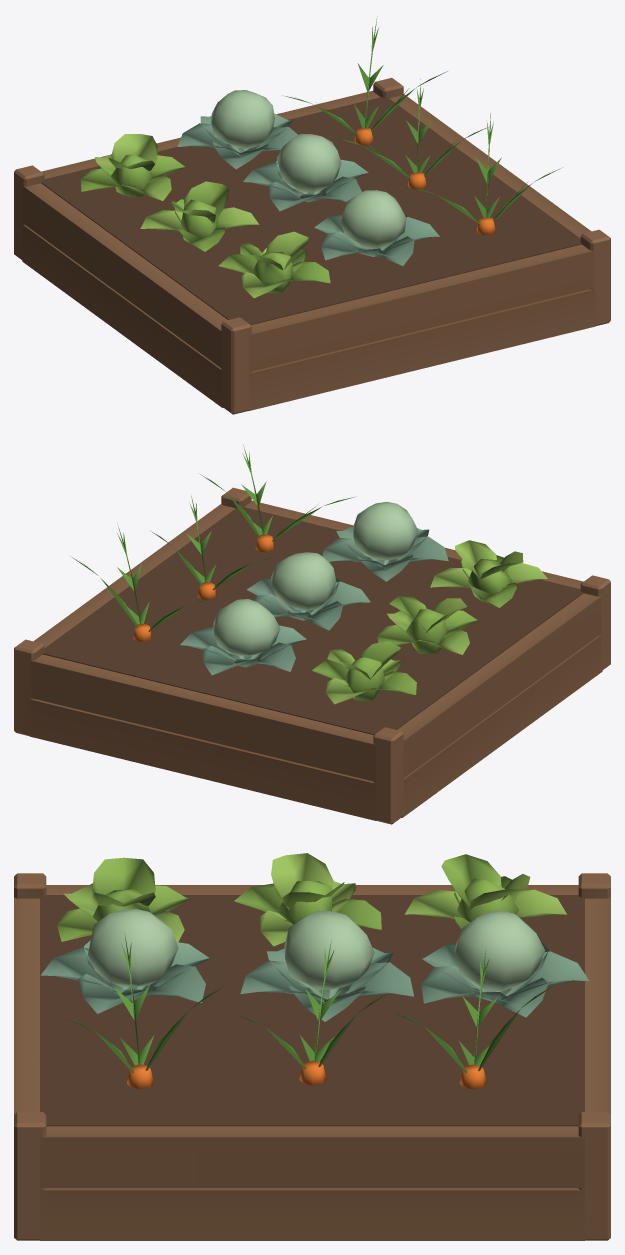
The model's file is vegPatch.glb.
3 renders of one model, top to bottom at view 1: azimuth 30°, elevation 25°; view 2: azimuth 150°, elevation 25°; view 3: azimuth 270°, elevation 25°, orthographic. The views are drawn at different scales.
Visible parts, largest first — view 1: vegPatch, plants, crop; view 2: vegPatch, plants, crop; view 3: vegPatch, plants, crop.
Boxes of the visible parts, x1,y1,x2,y2 form: vegPatch: (14, 77, 610, 414); plants: (80, 17, 562, 298); crop: (211, 90, 495, 248); vegPatch: (14, 487, 610, 824); plants: (72, 445, 547, 704); crop: (133, 502, 418, 656); vegPatch: (14, 873, 610, 1240); plants: (41, 853, 588, 1073); crop: (88, 909, 544, 1089).
Size of the model in its own units: 0.92 by 0.398 by 0.92.
